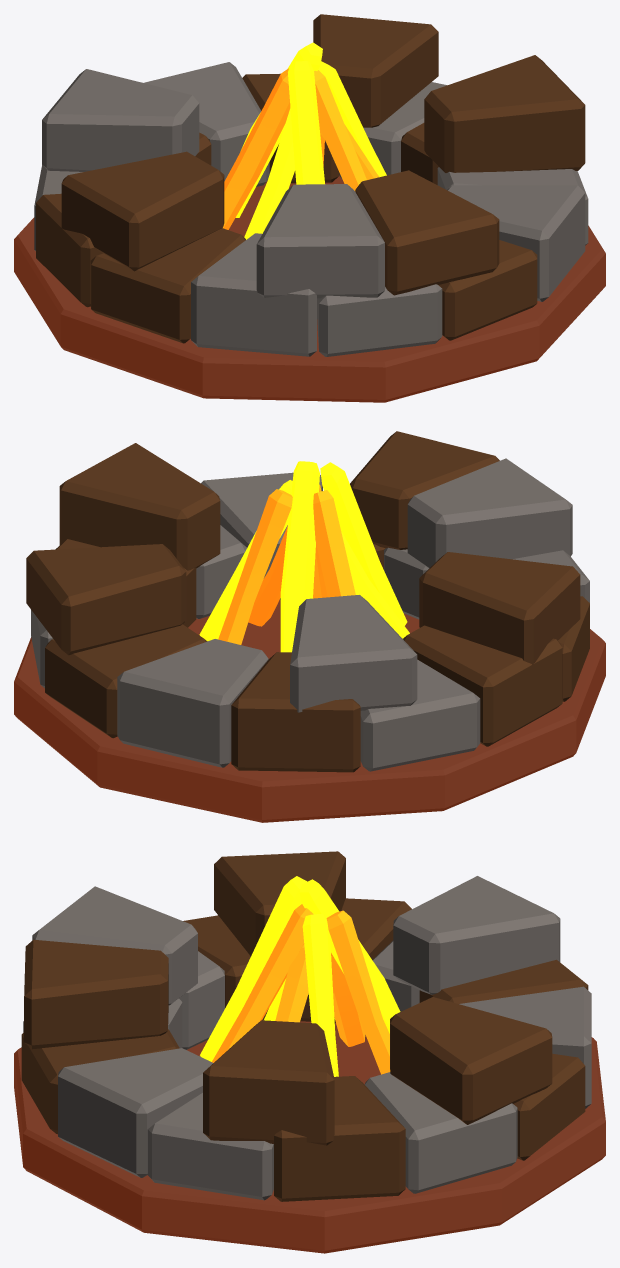
File: bonfire.glb
3 renders of one model, top to bottom at view 1: azimuth 30°, elevation 25°; view 2: azimuth 150°, elevation 25°; view 3: azimuth 270°, elevation 25°, orthographic. The views are drawn at different scales.
Visible parts, largest first — view 1: bonfire_a001.001; view 2: bonfire_a001.001; view 3: bonfire_a001.001.
Boxes of the visible parts, x1,y1,x2,y2 form: bonfire_a001.001: (14, 14, 605, 402); bonfire_a001.001: (14, 431, 605, 822); bonfire_a001.001: (14, 851, 605, 1253).
Bounding box in the file's own units: 1.28 × 0.5652 × 1.24.
